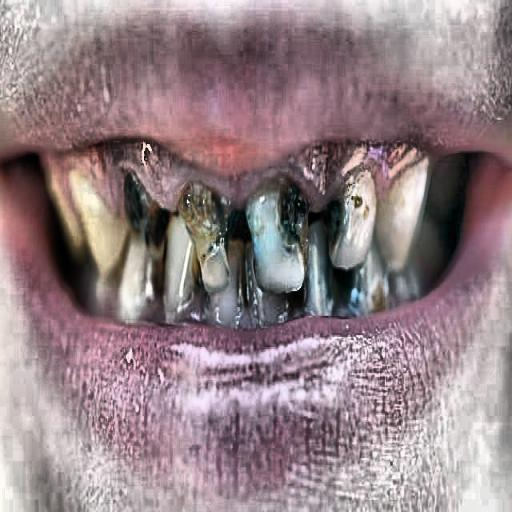Caries: (108, 144, 254, 279), (272, 145, 407, 265), (286, 276, 396, 327)
